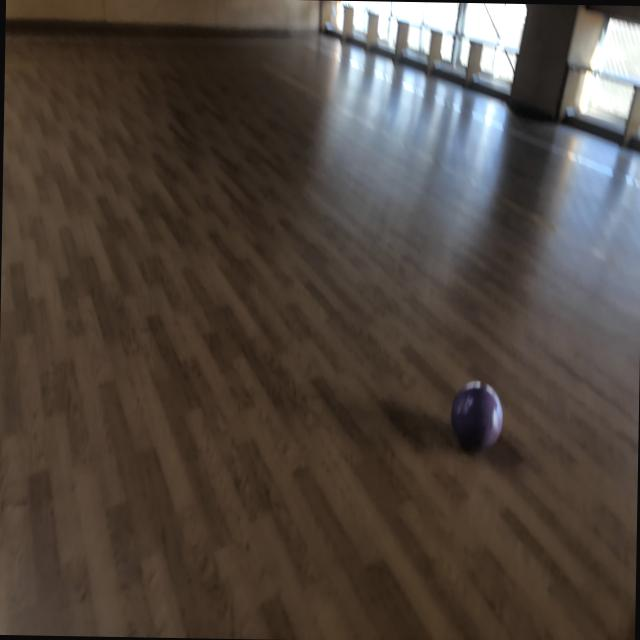purple_ball: (451, 380, 505, 456)
